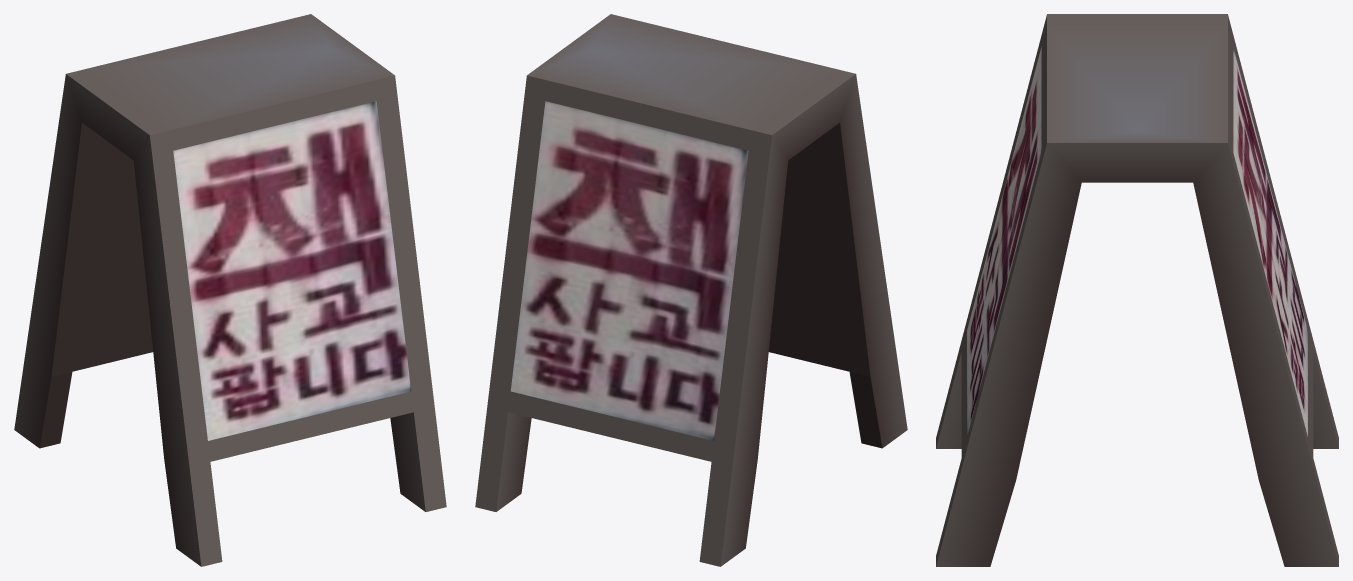
The model's file is sample.fbx.
The picture shows the model from 3 angles, left to right: view 1: azimuth 30°, elevation 25°; view 2: azimuth 150°, elevation 25°; view 3: azimuth 270°, elevation 25°; orthographic projection. The views are drawn at different scales.
Visible parts, largest first — view 1: Cube.076; view 2: Cube.076; view 3: Cube.076.
Boxes of the visible parts, box(x1,y1,x2,y2) form: Cube.076: box(14, 14, 446, 566); Cube.076: box(475, 14, 907, 566); Cube.076: box(936, 14, 1338, 566).
Size of the model in its own units: 54.65 by 83.86 by 72.22.
